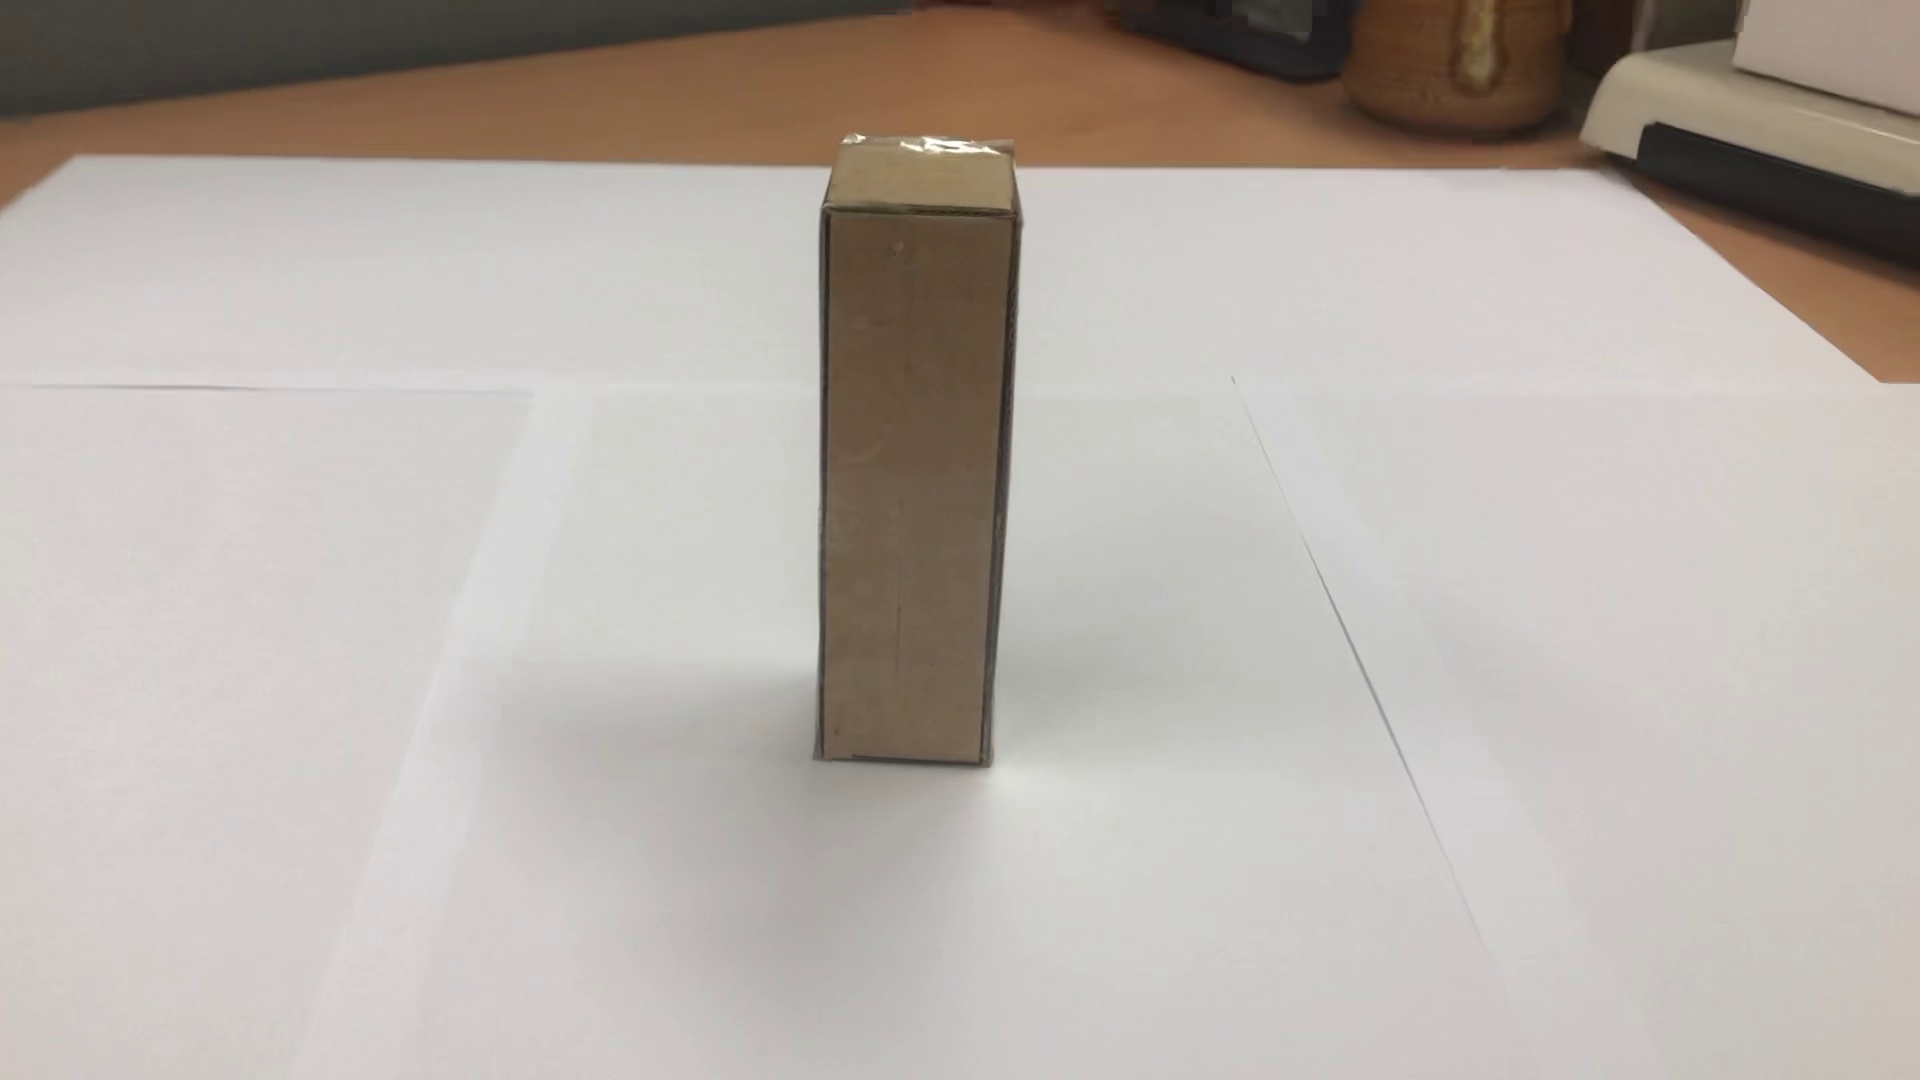box: (789, 113, 1034, 785)
